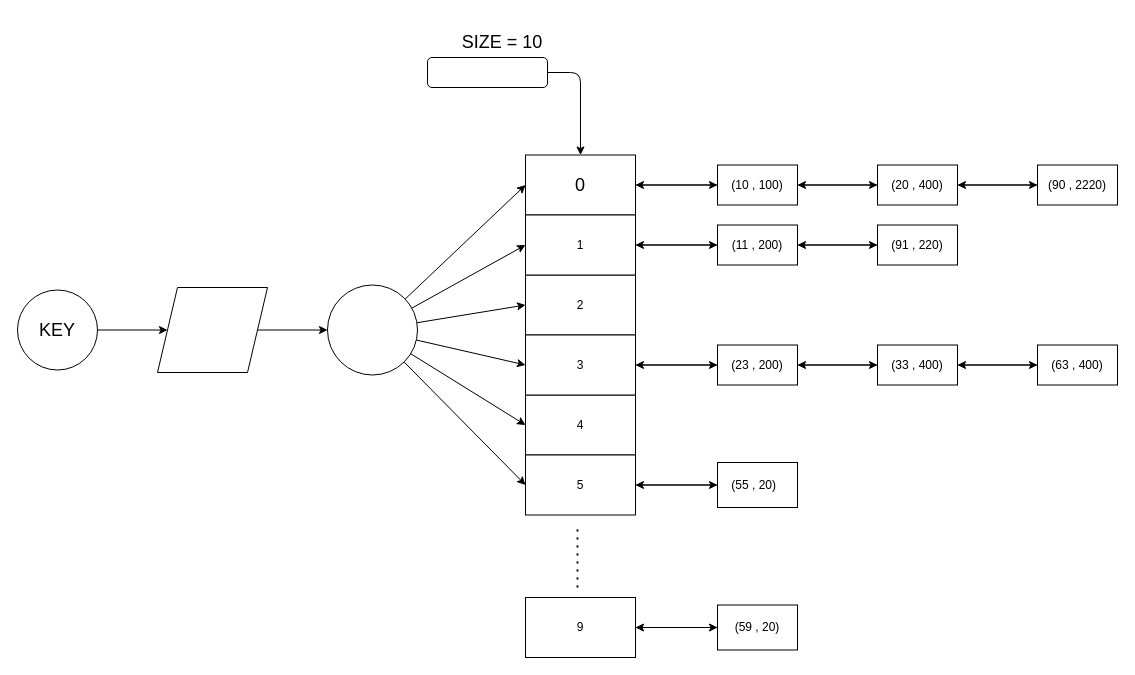
This 1135x675 diagram has some shape labels left out. The box of each missing label's shape, as (x1, y1, x2, y2) in pixels:
*linkedList: (426, 56, 548, 88)
Hash function: (156, 286, 268, 372)
Hash Value: (326, 284, 418, 375)
